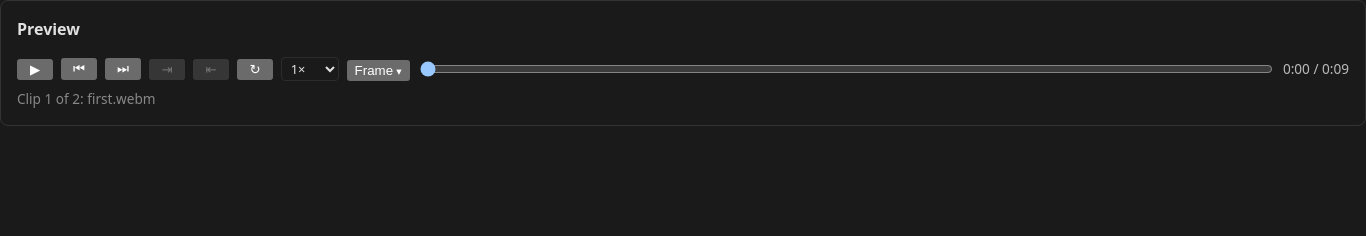
it: PreviewPlayer › renders player controls and sequence position once entries exist
Check: the button named "Play preview" is shown, box [17,58,53,80]
Check: the text with test id "preview-position" reads "0:00 / 0:09", box [1283,59,1349,79]
Click the button "Frame▾".
click(378, 70)  # box [347,60,410,81]
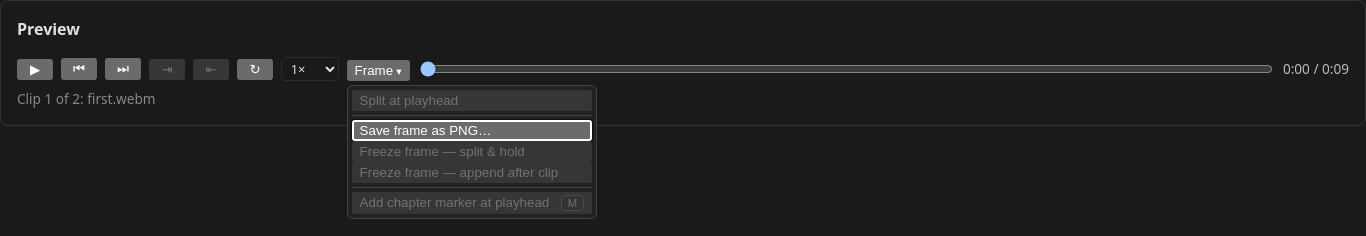
Check: the menu item with test id "preview-save-frame" is enabled, box [352,120,592,141]
